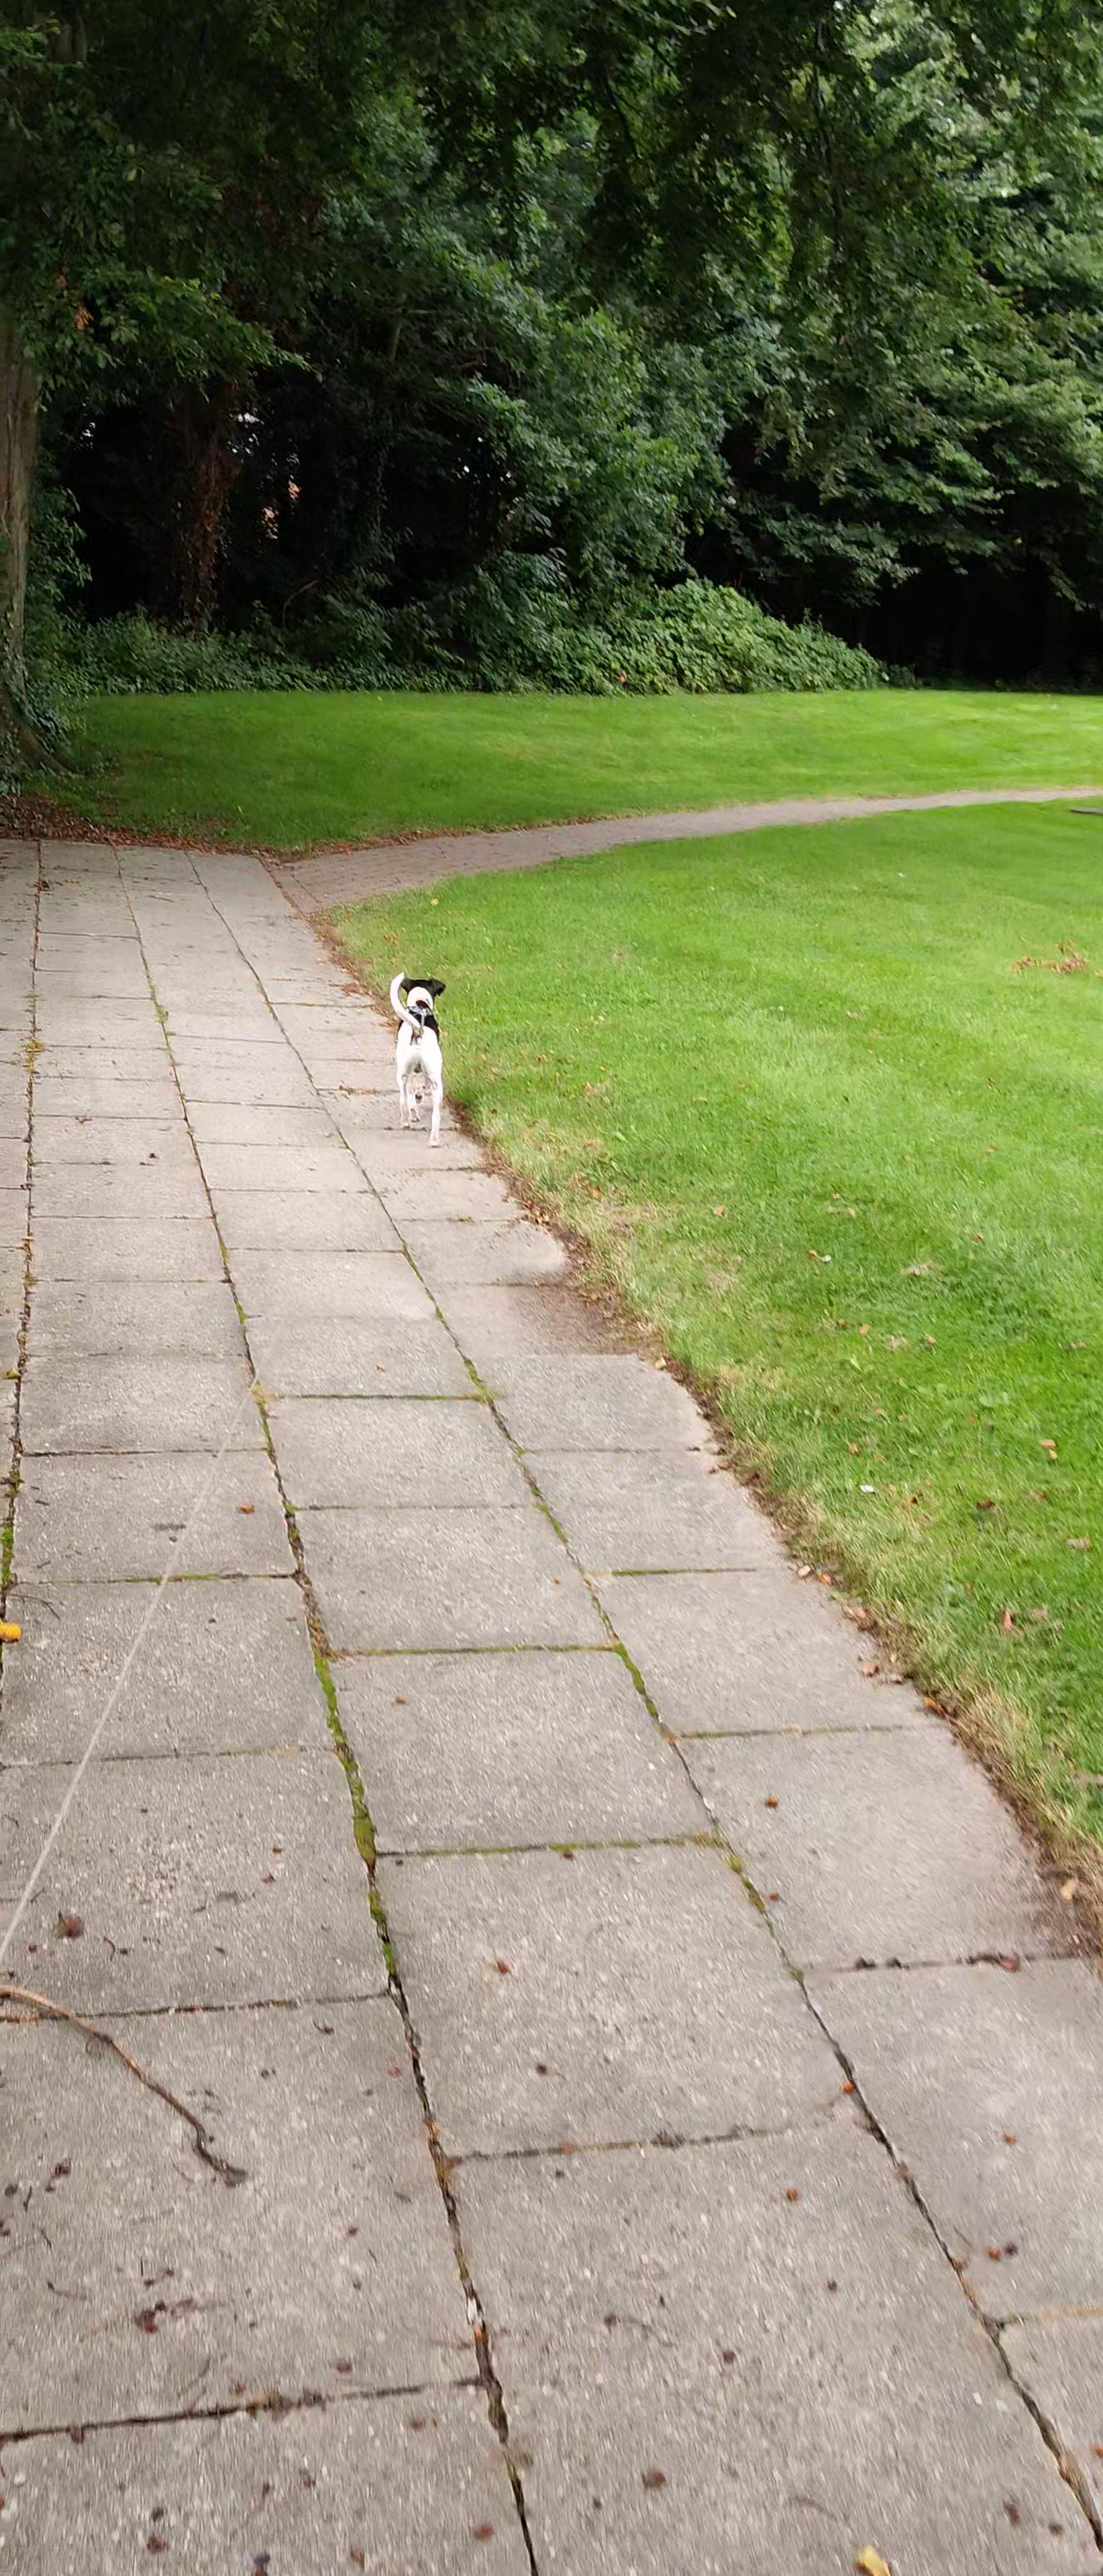Dog: (385, 969, 450, 1152)
